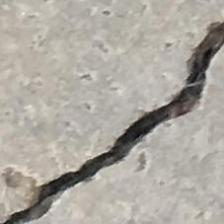Crack: (18, 18, 224, 224)
